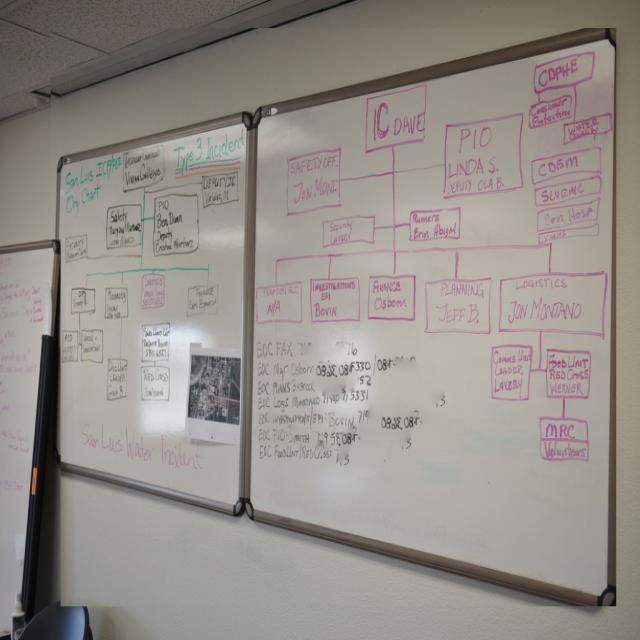Whiteboard: (246, 26, 616, 606), (50, 106, 251, 516)
